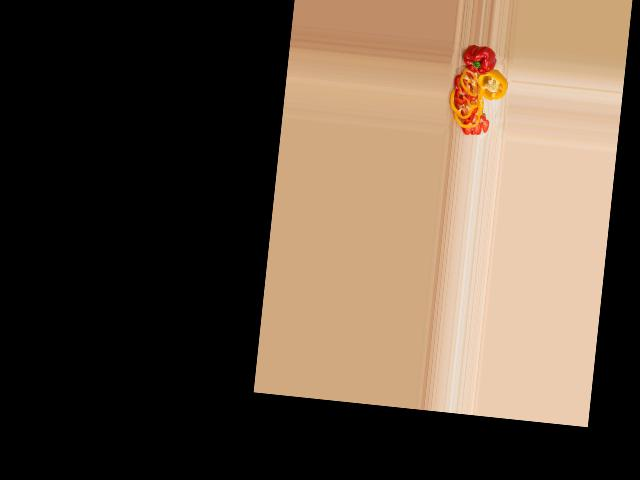bell_pepper: (475, 69, 510, 103)
